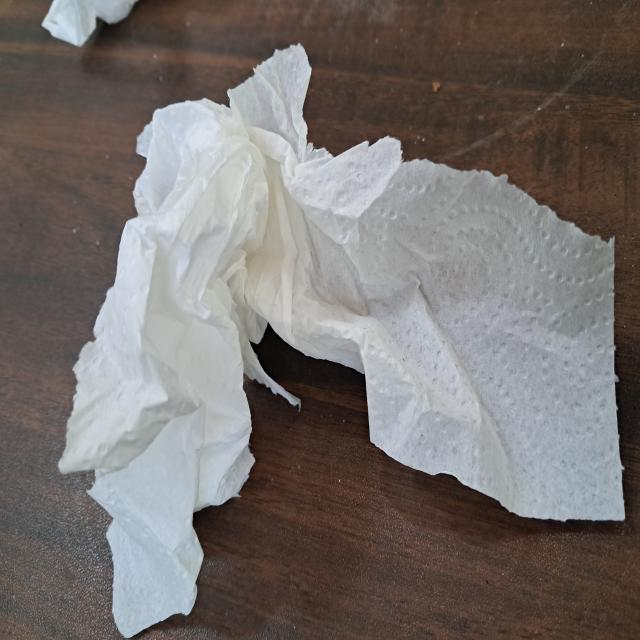Organik: (49, 38, 636, 638)
